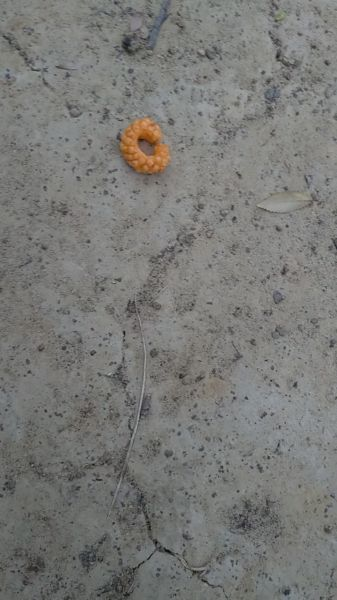eggs: (114, 108, 169, 172)
